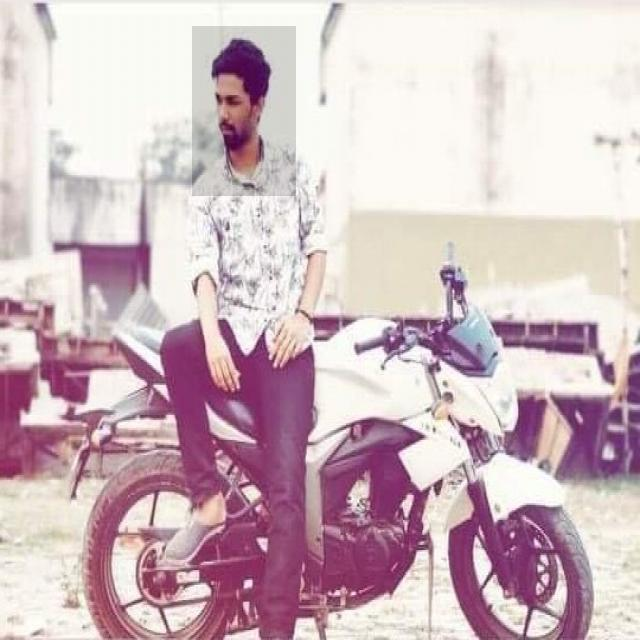No_Helmet: (192, 26, 296, 196)
